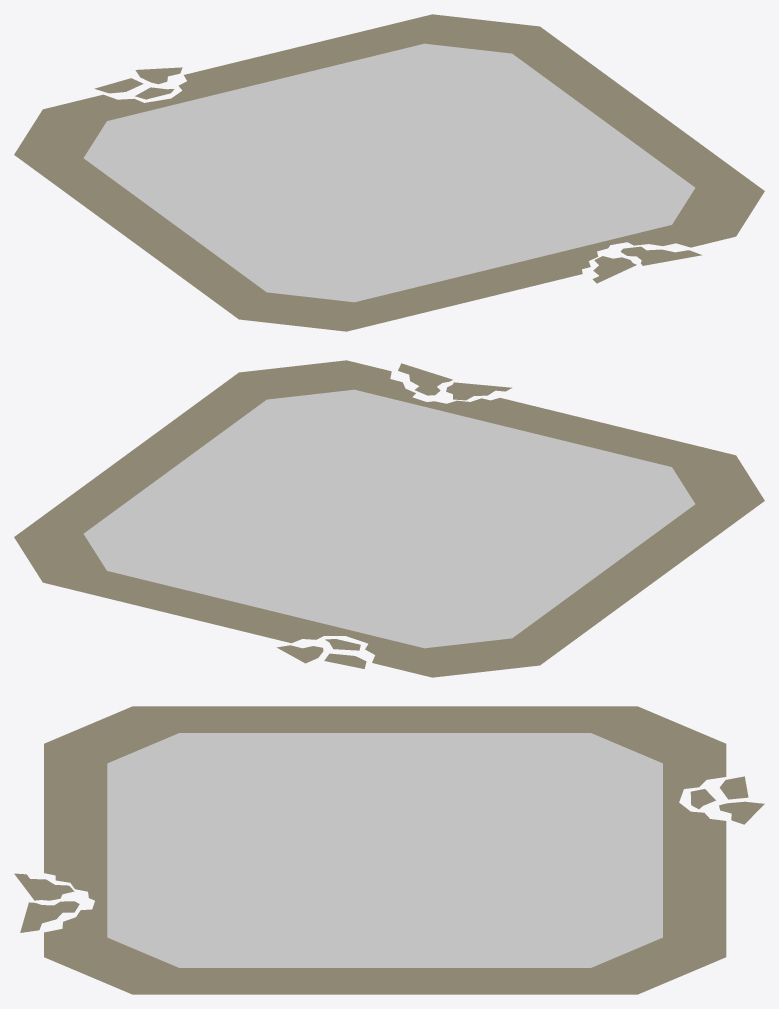
File: Ground1.fbx
The picture shows the model from 3 angles, top to bottom: view 1: azimuth 30°, elevation 25°; view 2: azimuth 150°, elevation 25°; view 3: azimuth 270°, elevation 25°; orthographic projection. The views are drawn at different scales.
Parts seen in each view (by area): view 1: Ground1; view 2: Ground1; view 3: Ground1.
Part boxes in pixels (x1,y1,x2,y2): Ground1: (14,14,764,331); Ground1: (14,360,764,677); Ground1: (14,706,764,994).
Bounding box in the file's own units: 3.83 × 0 × 4.22.
